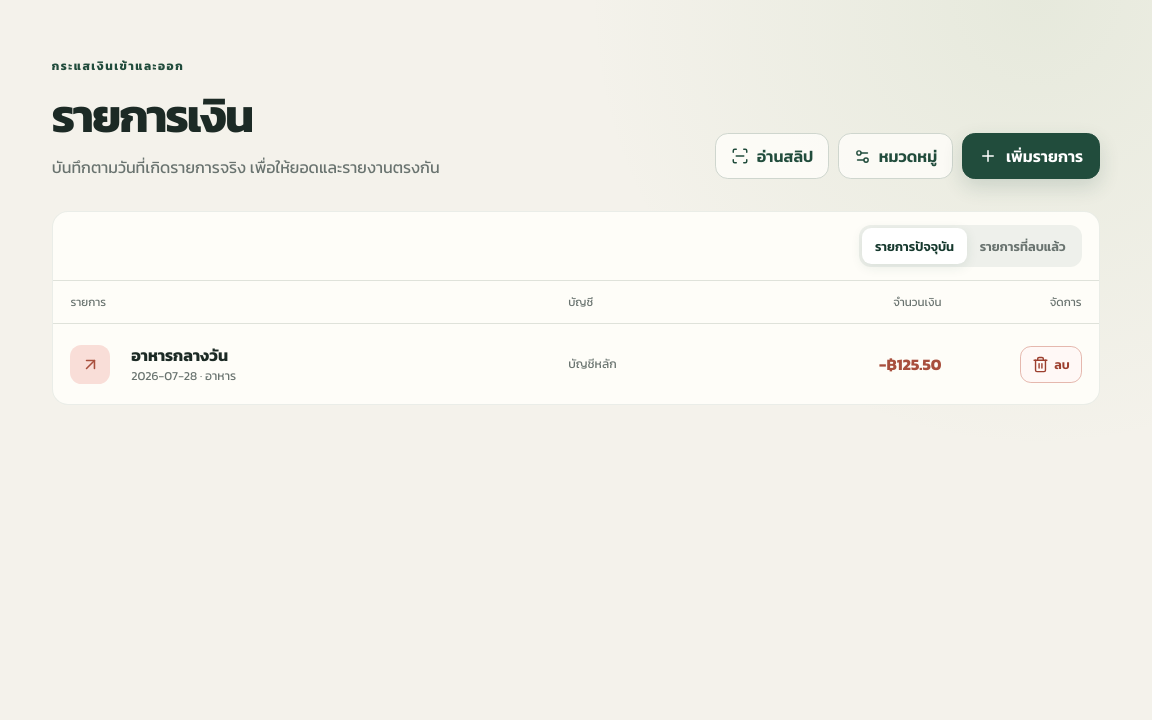
TransactionsPage › opens the separate slip import dialog
Click the button "อ่านสลิป". click: (772, 156)
box: [715, 133, 829, 179]
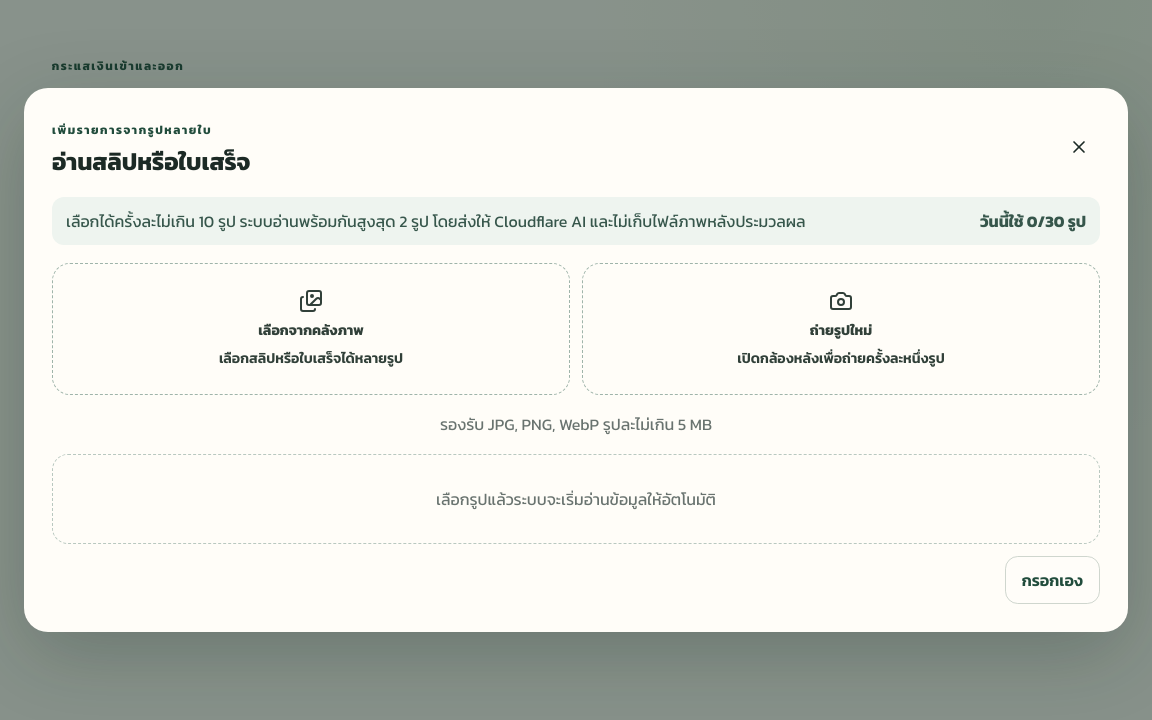
Now the dialog "อ่านสลิปหรือใบเสร็จ" is shown
Now the text "Cloudflare AI" is shown, box [66, 209, 806, 233]
